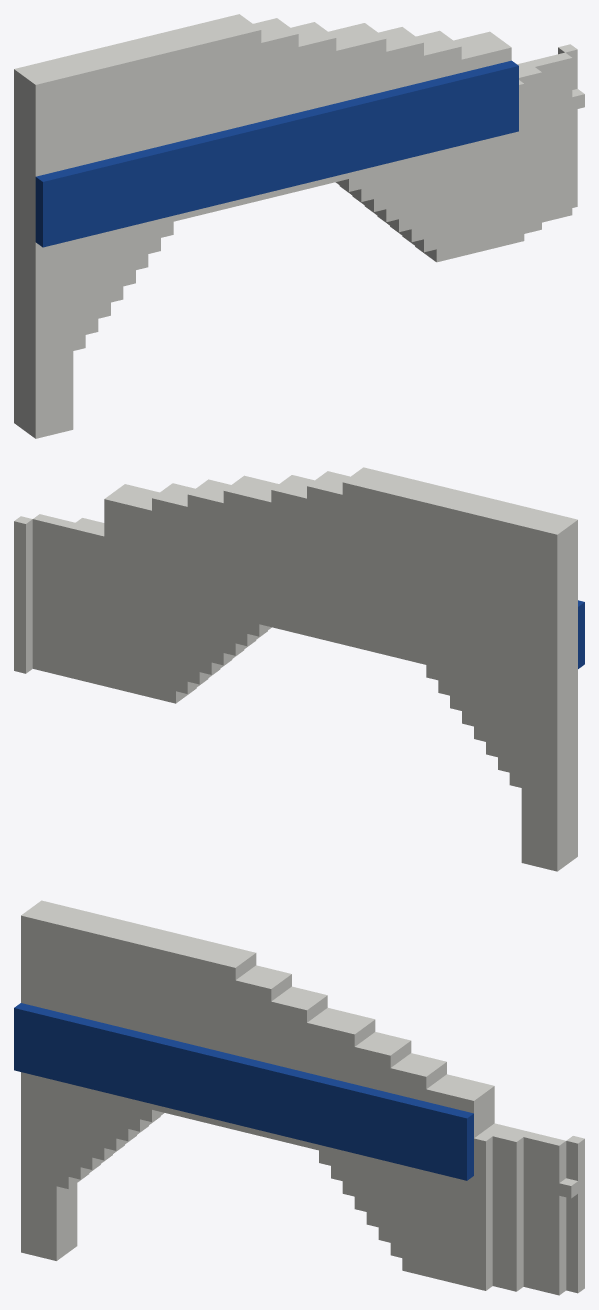
Rendered from prisoner_van_front_wing.glb.
3 views of the same model, one above another, from view 1: azimuth 30°, elevation 25°; view 2: azimuth 150°, elevation 25°; view 3: azimuth 330°, elevation 25° (orthographic). The views are drawn at different scales.
Visible parts, largest first — view 1: body:compound; view 2: body:compound; view 3: body:compound.
Part boxes in pixels (x1=…): body:compound: x1=14, y1=14, x2=584, y2=438; body:compound: x1=14, y1=467, x2=584, y2=871; body:compound: x1=14, y1=900, x2=584, y2=1295.
Bounding box in the file's own units: 1.41 × 0.8438 × 0.1562.
